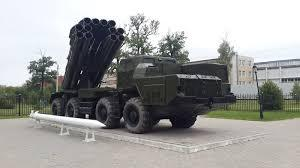MIL_SAM_TEL: (47, 16, 236, 137)
